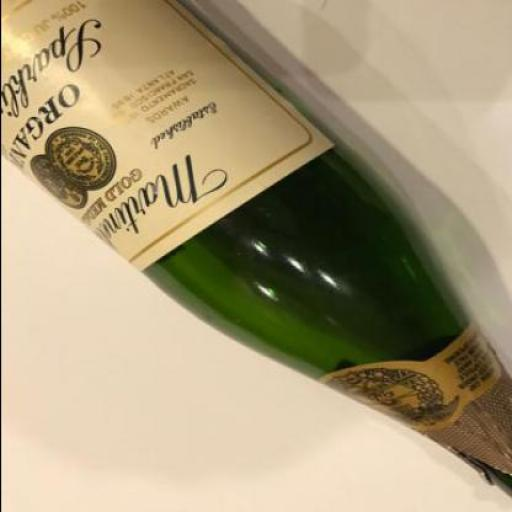glass: (1, 1, 511, 502)
